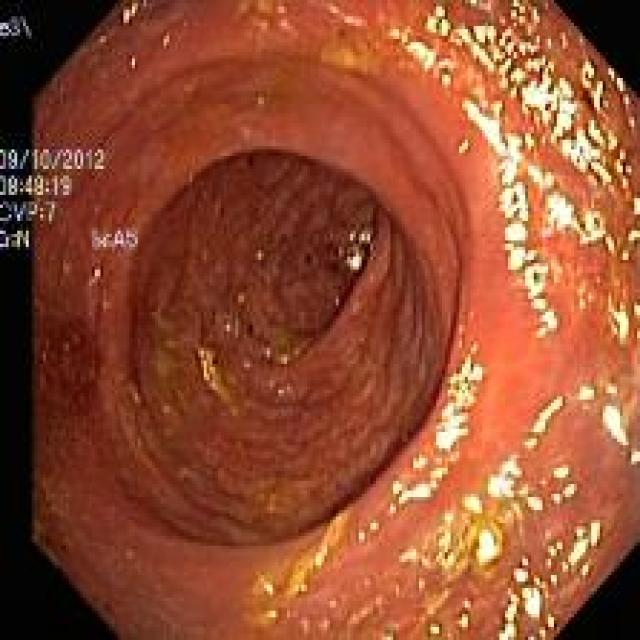ulcerative-colitis-grade-1: (35, 4, 472, 635)
